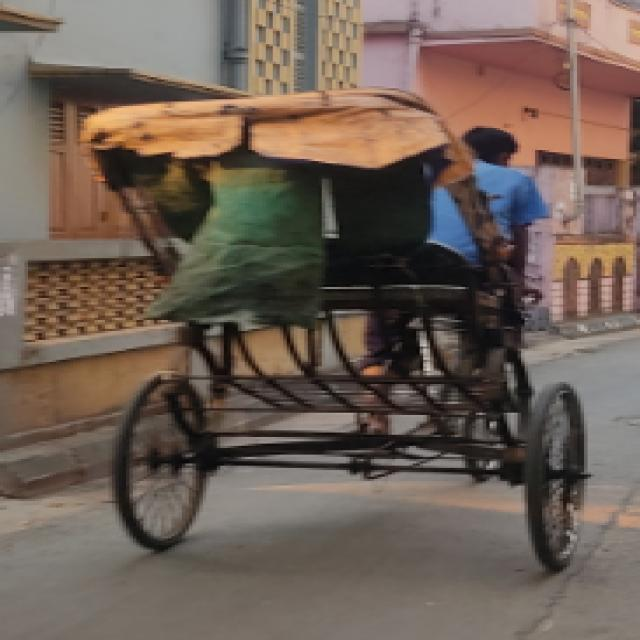rickshaw: (74, 86, 602, 594)
